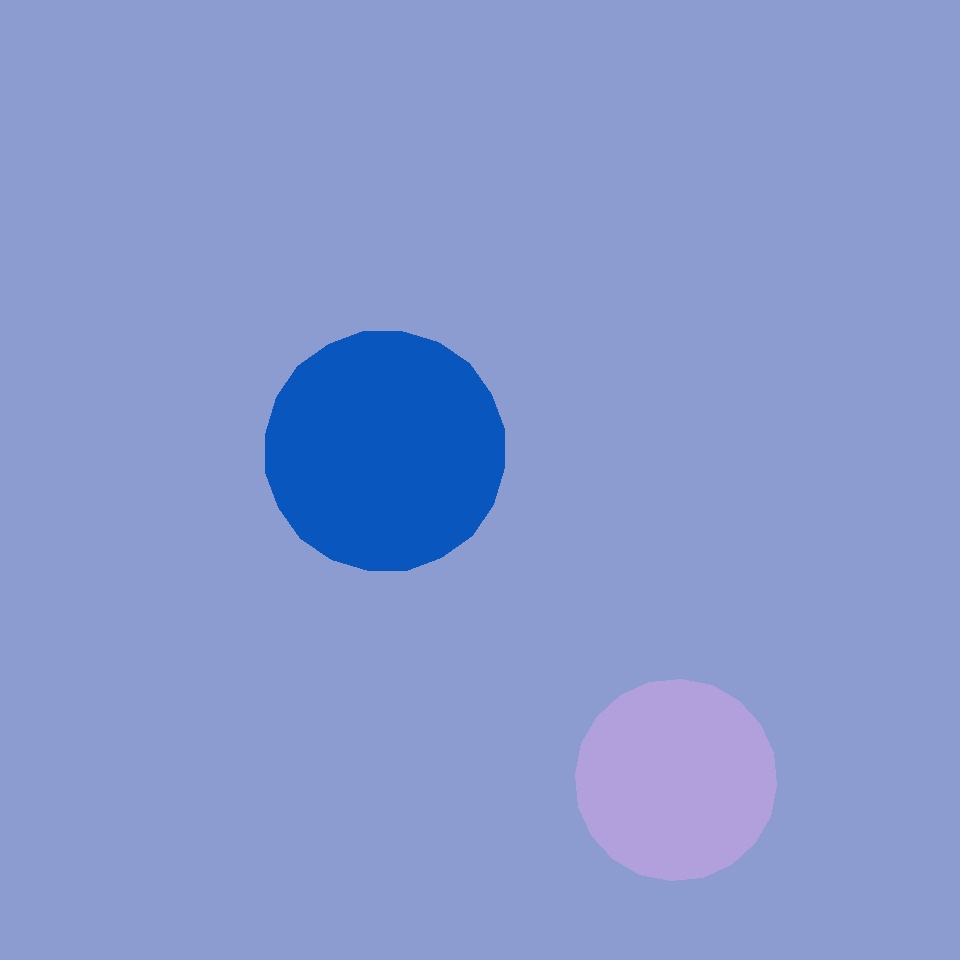circle: (331, 406, 636, 673)
square: (126, 302, 408, 585)
triangle: (466, 387, 798, 719), (266, 332, 504, 570), (576, 680, 777, 880)
